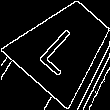L_NE: (35, 18, 93, 76)
